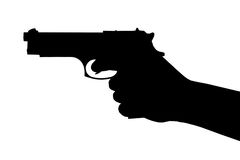pistol: (14, 16, 187, 141)
